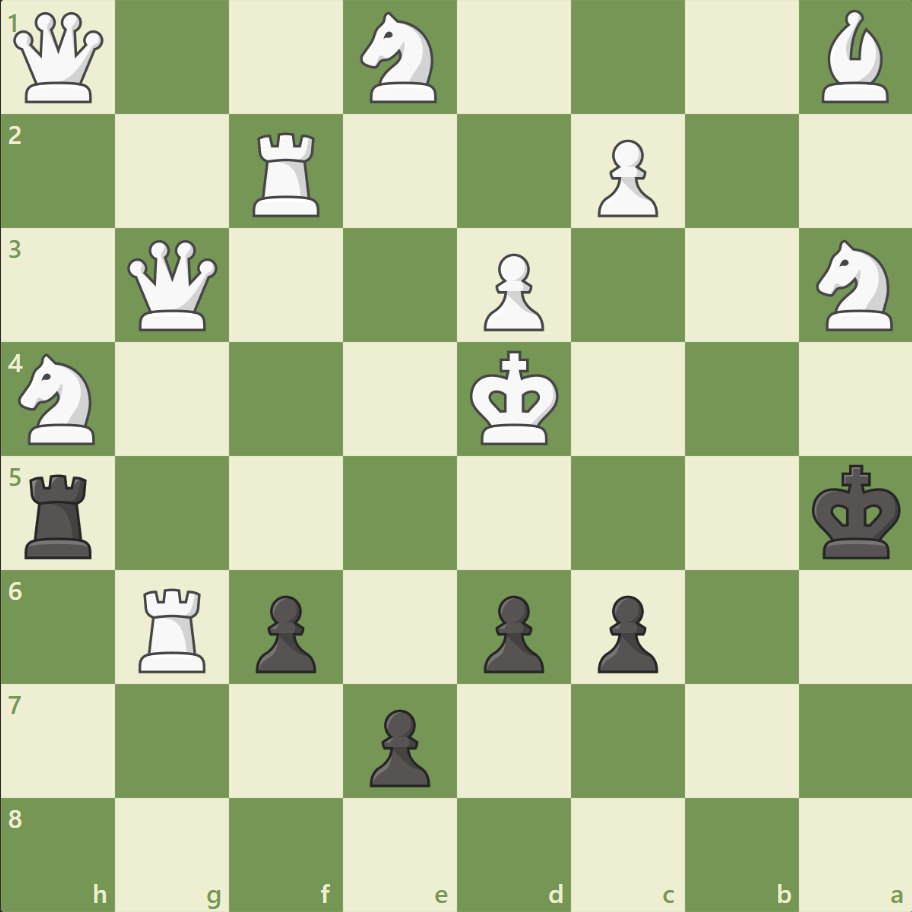B: (812, 6, 896, 109)
K: (465, 344, 565, 452)
N: (351, 7, 449, 110), (806, 234, 903, 337), (11, 348, 108, 450)
P: (474, 246, 549, 337), (588, 132, 662, 223)
Q: (124, 236, 223, 335), (10, 9, 109, 108)
R: (246, 125, 329, 222), (133, 579, 215, 676)
k: (806, 458, 906, 566)
p: (474, 586, 549, 677), (247, 586, 322, 677), (361, 700, 435, 791), (588, 586, 662, 677)
r: (19, 466, 102, 563)
